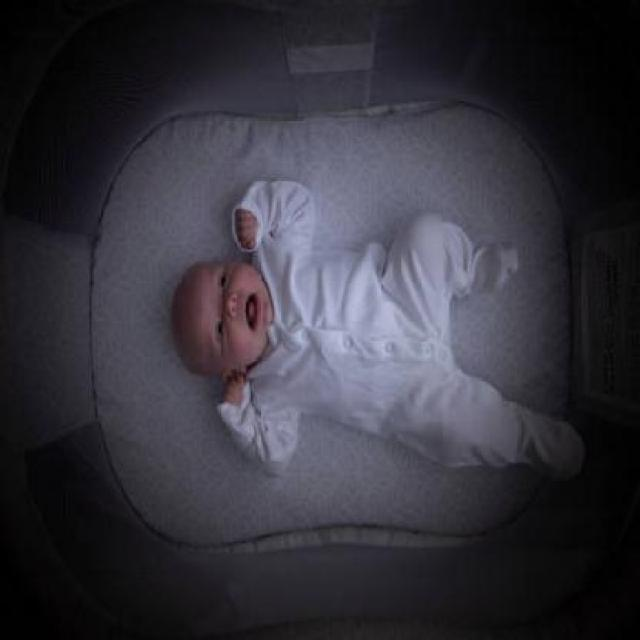baby: (168, 178, 580, 482)
